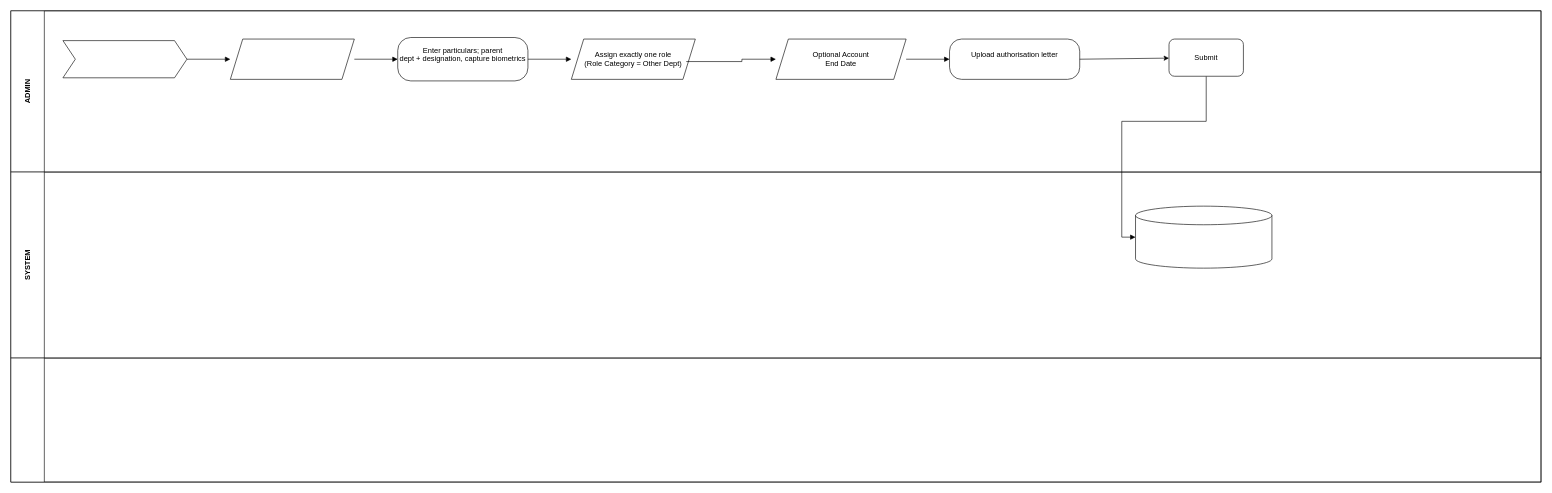
Some shapes in this 1552 by 493 pixel diagram are drawn without their labels. The centre of each missing label's shape, as x and y in pixels:
"Enter KGID — becomes Username" goes at (292,58).
"Open Add Other Department User" goes at (124,59).
"Save — account active; module access for role" goes at (1203,237).
"USER (biometrics)" goes at (775,419).
